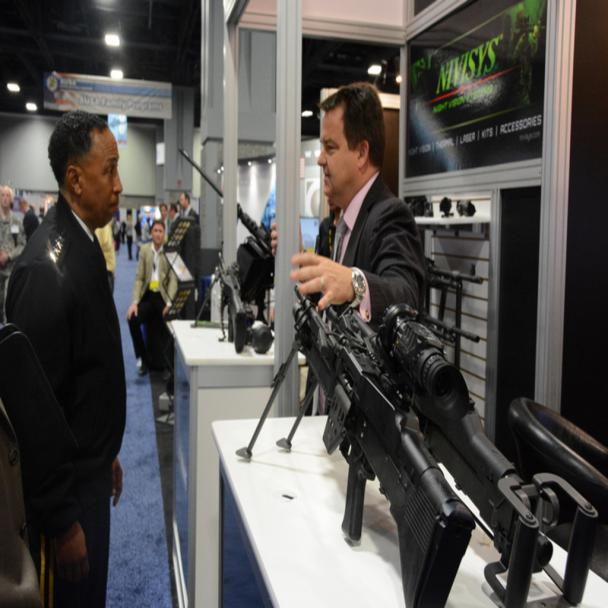Gun: (274, 290, 608, 607)
